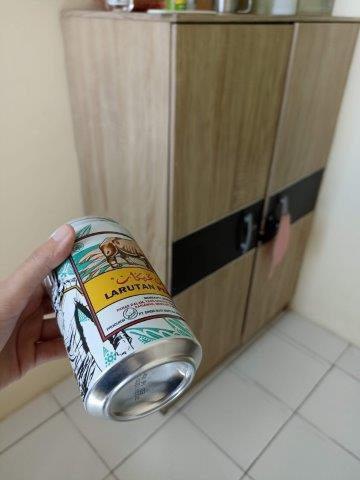kaleng: (47, 217, 203, 421)
